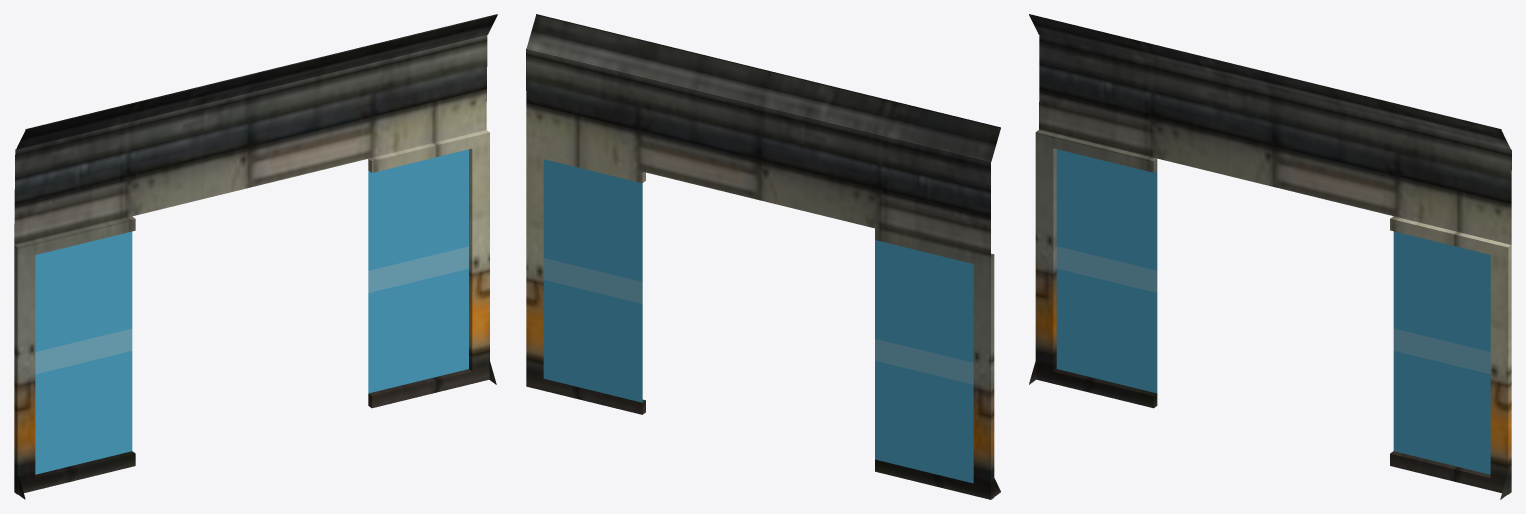
File: wall_doors_noaccent.glb
3 renders of one model, left to right at view 1: azimuth 30°, elevation 25°; view 2: azimuth 150°, elevation 25°; view 3: azimuth 330°, elevation 25°, orthographic.
Parts seen in each view (by area): view 1: WideDoorNoAccent; view 2: WideDoorNoAccent; view 3: WideDoorNoAccent.
Part boxes in pixels (box(x1,y1,x2,y2)): WideDoorNoAccent: box(14, 14, 497, 499); WideDoorNoAccent: box(526, 14, 1000, 499); WideDoorNoAccent: box(1029, 14, 1511, 499).
Size of the model in its own units: 8.01 by 6 by 0.3103.
3 materials, 1 textured.
